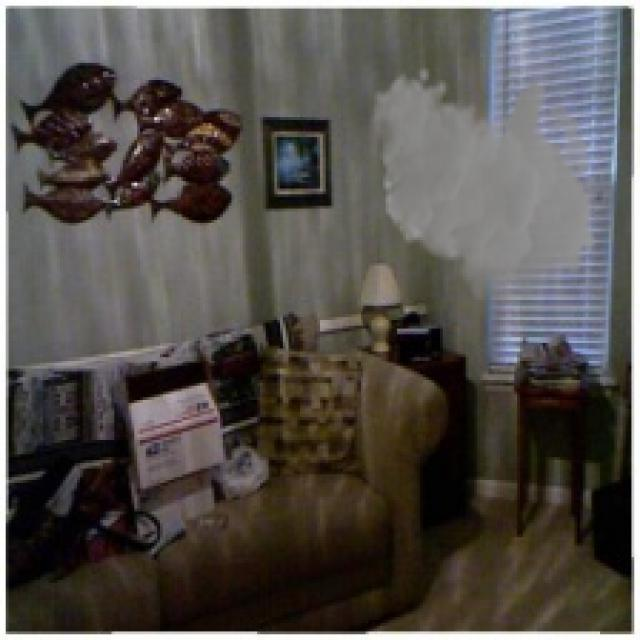Smoke: (372, 65, 597, 308)
